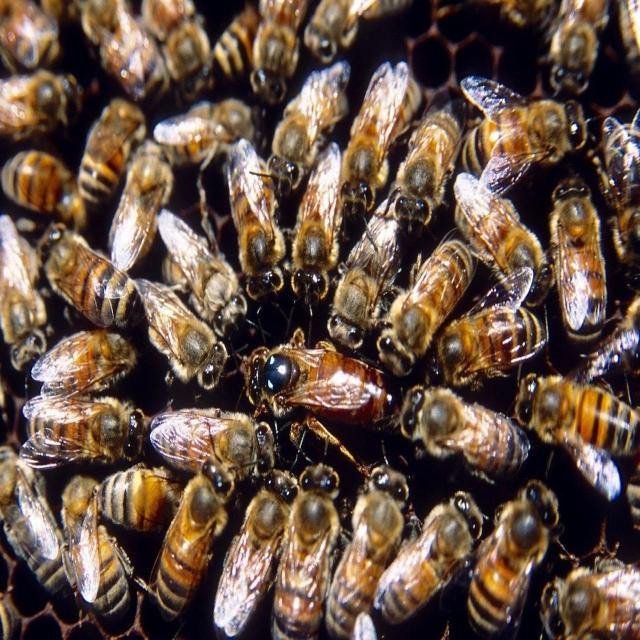honeybee: (55, 462, 145, 640), (149, 453, 233, 636), (238, 335, 390, 423), (231, 463, 306, 640), (456, 174, 555, 308), (25, 387, 144, 496), (512, 372, 640, 468), (335, 472, 408, 637), (158, 214, 251, 343), (473, 486, 549, 637), (459, 84, 584, 174), (400, 392, 527, 480), (265, 62, 350, 191), (382, 488, 467, 612), (156, 405, 272, 495), (135, 285, 227, 397), (0, 449, 68, 600), (335, 197, 406, 341), (288, 147, 349, 313), (229, 142, 295, 294), (48, 224, 140, 333), (276, 476, 337, 640), (336, 67, 412, 197), (550, 185, 610, 346), (390, 254, 467, 376), (439, 301, 549, 385), (84, 0, 164, 111), (392, 104, 455, 236), (547, 550, 640, 636), (116, 138, 170, 275), (301, 0, 418, 59), (0, 214, 46, 364), (74, 99, 134, 214), (141, 0, 210, 95), (0, 158, 88, 224), (85, 473, 185, 530), (245, 0, 299, 99), (29, 341, 133, 392), (0, 62, 72, 135), (195, 4, 256, 90), (152, 109, 254, 158), (551, 0, 603, 92), (0, 0, 70, 67), (602, 130, 640, 250)
